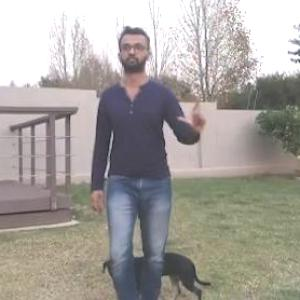land_hand: (175, 91, 210, 135)
